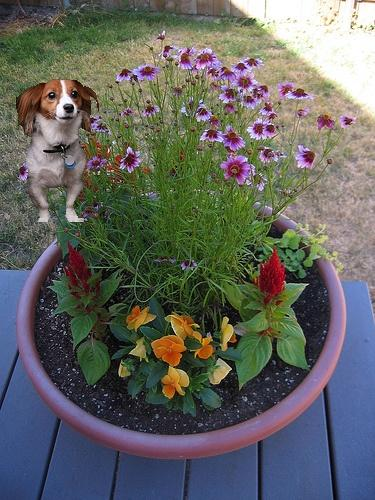tampered: (17, 80, 99, 222)
